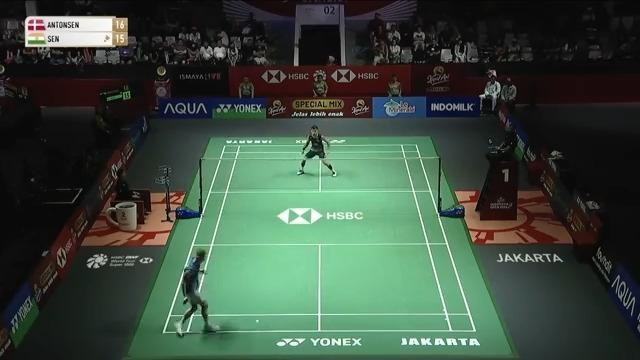Shuttlecock: (253, 317, 260, 326)
